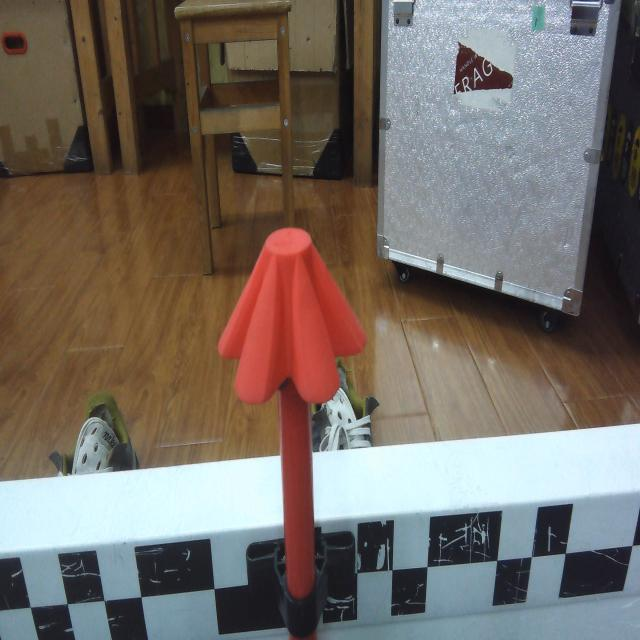zred-Stake-Head: (217, 227, 367, 403)
